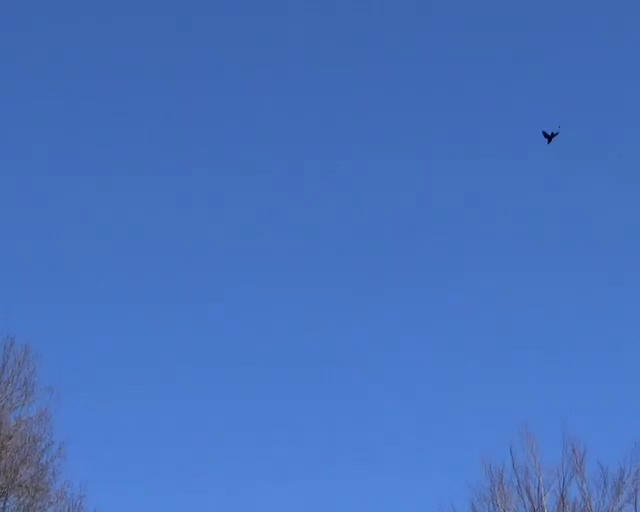BIRD: (541, 126, 561, 144)
